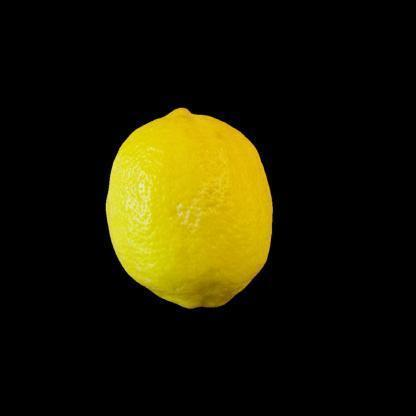lemon: (106, 107, 274, 309)
